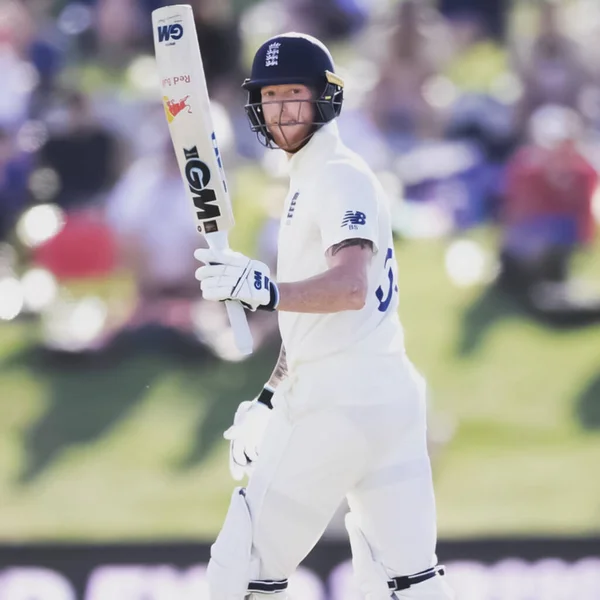bottom left: (182, 3, 198, 19)
bottom right: (137, 3, 162, 28)
top left: (219, 205, 252, 238)
top right: (187, 223, 209, 245)
